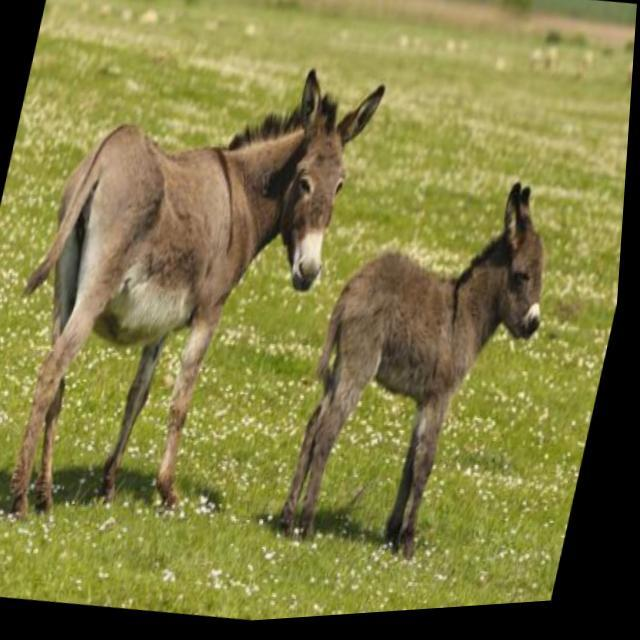Donkey: (0, 30, 393, 573), (278, 162, 576, 586)
